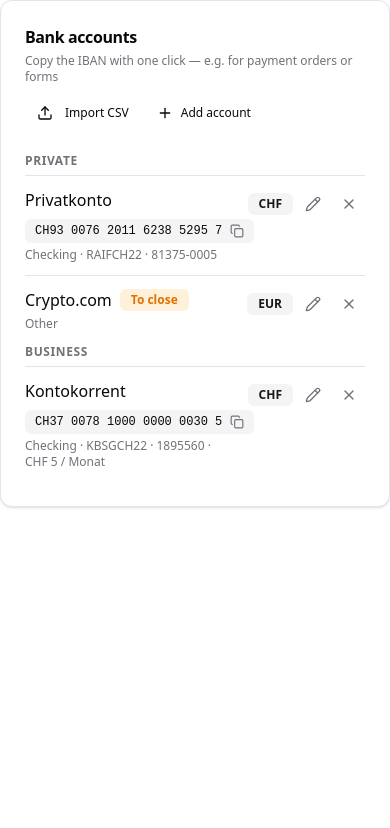
it: BankAccountsCard › opens the edit dialog prefilled with the account
The width and height of the screenshot is (390, 828).
What coordinates should you click on to do the following:
click the button named "Edit account" in the row of "Privatkonto"
I would click on:
 (313, 204)
Its box is [297,188,329,220].
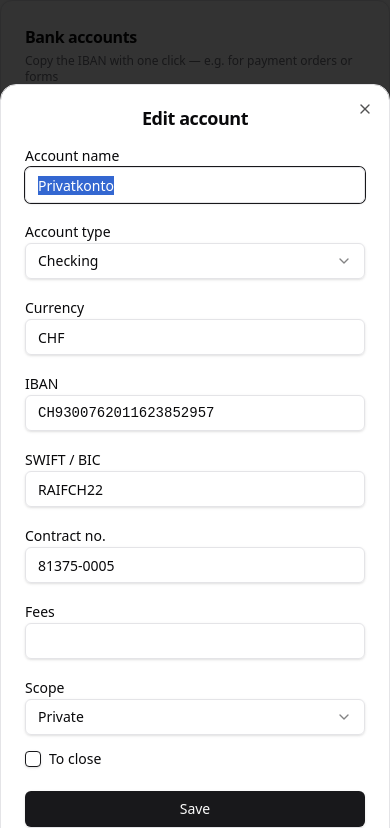
Expected: the heading "Edit account" is shown, [142,106,248,130]
Expected: the field labelled "Account name" holds "Privatkonto", [25,167,365,203]
